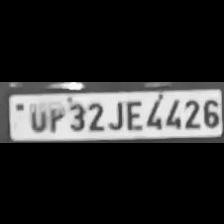2: (180, 96, 200, 128), (86, 98, 104, 130)
3: (65, 99, 84, 130)
4: (144, 95, 162, 129), (163, 96, 181, 128)
6: (201, 95, 221, 127)
E: (124, 97, 142, 129)
J: (105, 97, 123, 129)
P: (46, 103, 64, 132)
U: (26, 101, 48, 131)
